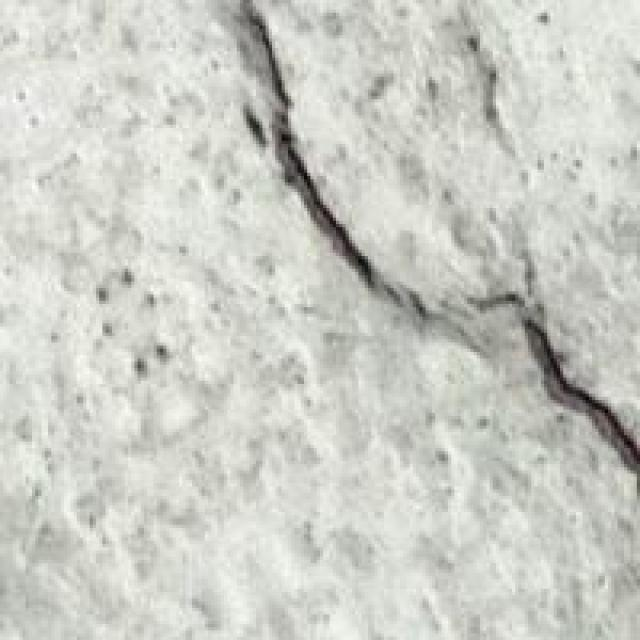Crack: (237, 10, 637, 499)
